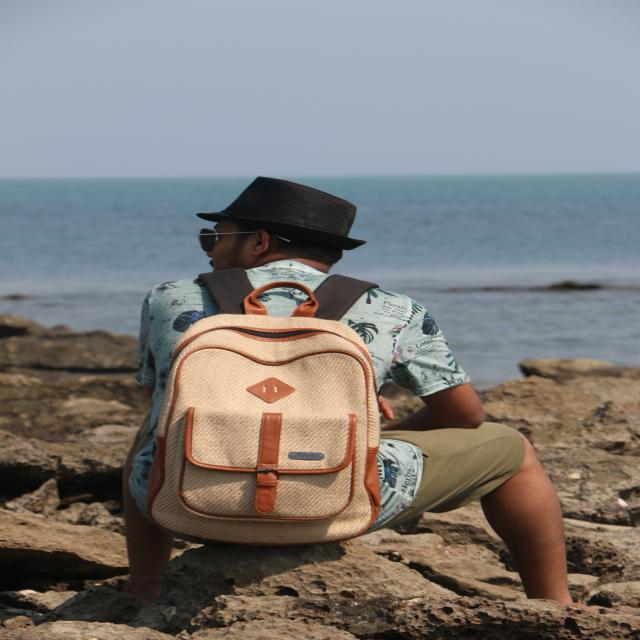backpack: (139, 268, 386, 538)
